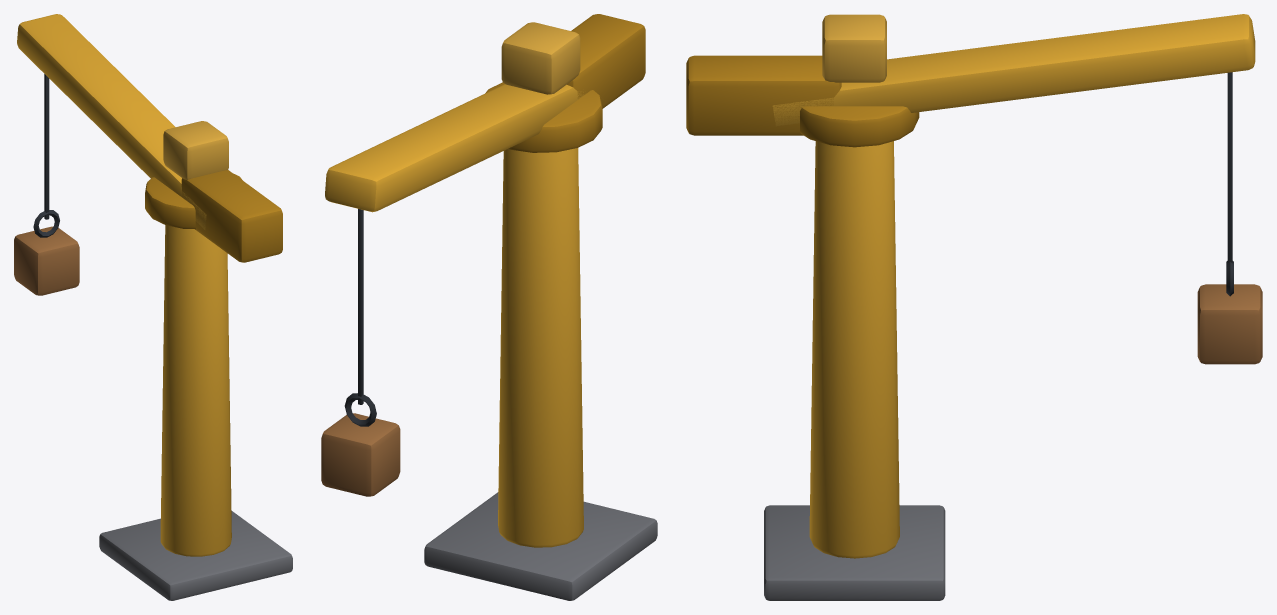
File: HarborCrane.glb
3 renders of one model, left to right at view 1: azimuth 30°, elevation 25°; view 2: azimuth 150°, elevation 25°; view 3: azimuth 270°, elevation 25°, orthographic. The views are drawn at different scales.
Parts seen in each view (by area): view 1: HarborCrane; view 2: HarborCrane; view 3: HarborCrane.
Part boxes in pixels (bbox=[...]): HarborCrane: bbox=[14, 14, 292, 600]; HarborCrane: bbox=[321, 14, 657, 600]; HarborCrane: bbox=[686, 14, 1262, 600].
Size of the model in its own units: 1.4 by 4.6 by 4.45.
